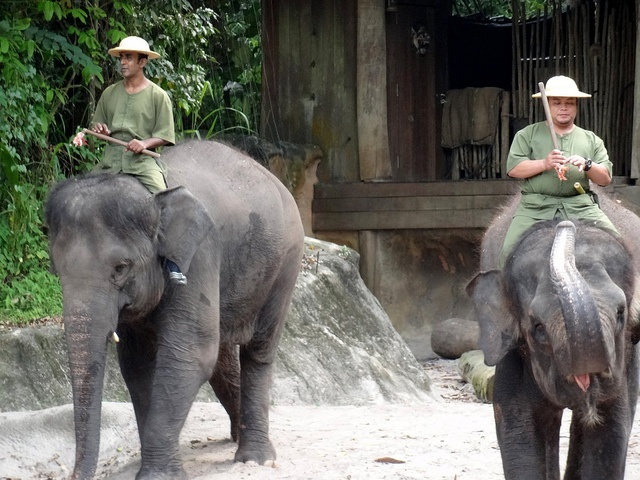elephant: (45, 136, 305, 479), (464, 178, 638, 480)
